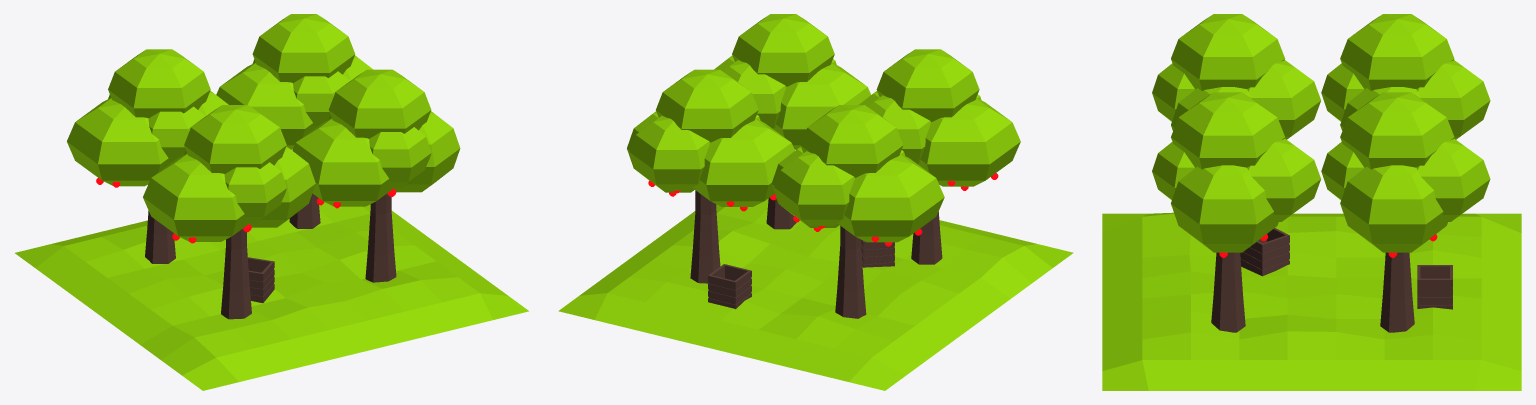
File: AppleFarm.fbx
3 views of the same model, side by side, from view 1: azimuth 30°, elevation 25°; view 2: azimuth 150°, elevation 25°; view 3: azimuth 270°, elevation 25° (orthographic). The views are drawn at different scales.
Parts seen in each view (by area): view 1: Plane.008; view 2: Plane.008; view 3: Plane.008.
Boxes of the visible parts, box(x1,y1,x2,y2) form: Plane.008: box(15, 14, 528, 390); Plane.008: box(558, 14, 1073, 390); Plane.008: box(1102, 14, 1521, 390).
Size of the model in its own units: 2457 by 1569 by 2457.
